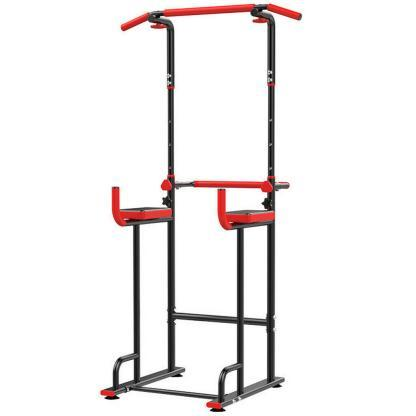chinning dipping: (102, 4, 303, 412)
